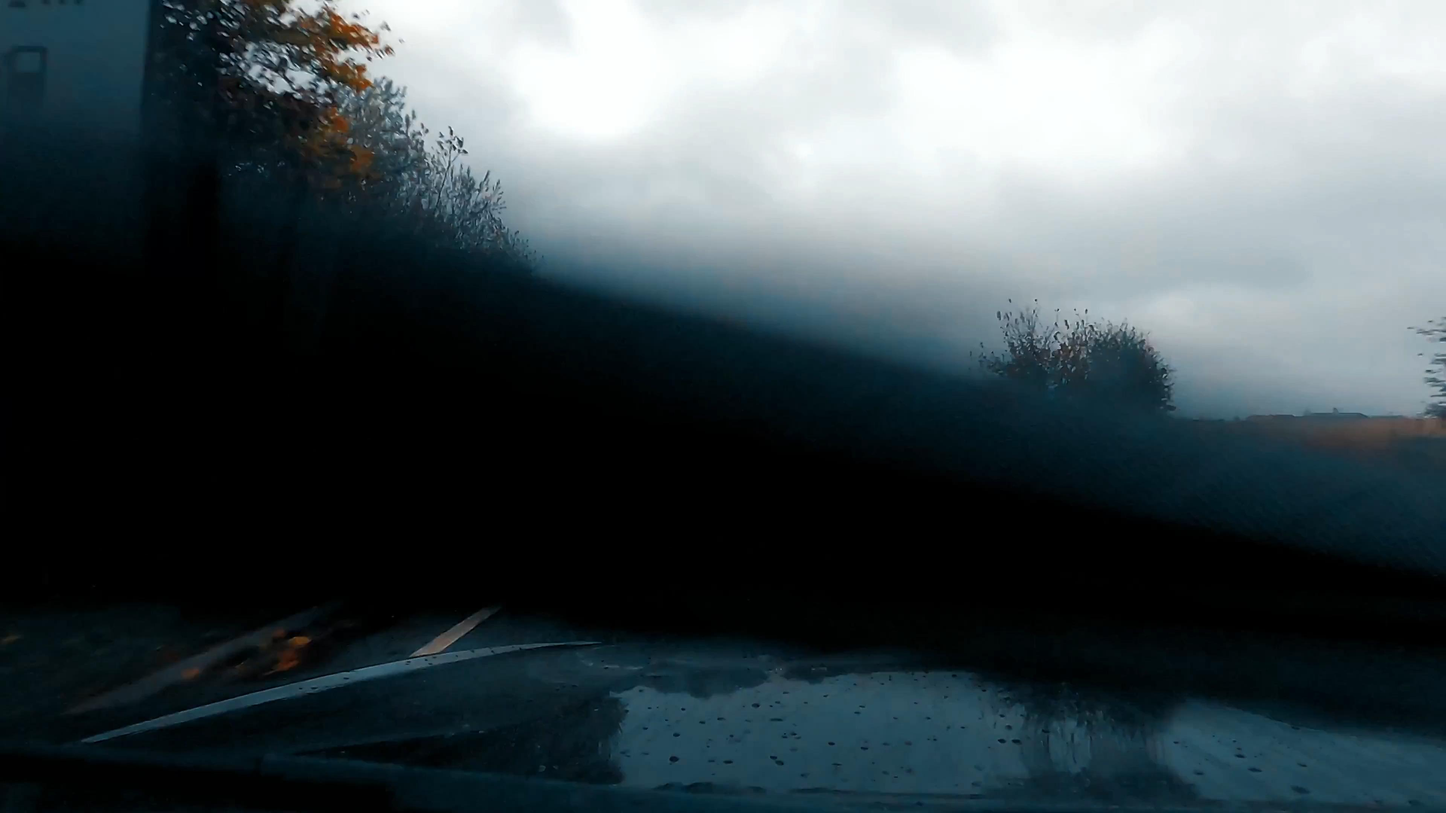wet: (0, 594, 1446, 813)
